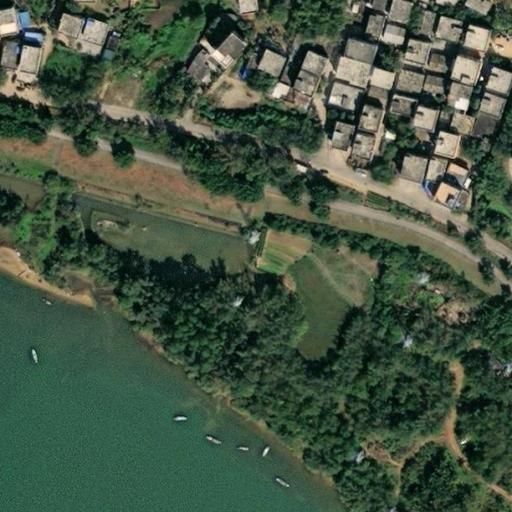building: (199, 16, 240, 58), (173, 48, 211, 88), (317, 78, 357, 112), (472, 56, 512, 90), (331, 27, 373, 55), (434, 73, 468, 107), (326, 50, 362, 82), (245, 40, 279, 73), (265, 78, 304, 105), (424, 8, 456, 40), (423, 171, 455, 203), (467, 81, 498, 114), (389, 141, 420, 174), (339, 119, 368, 153), (426, 105, 465, 130), (46, 2, 77, 33), (442, 44, 473, 75), (72, 13, 102, 45), (453, 12, 483, 44), (282, 57, 314, 87), (385, 67, 417, 97), (318, 112, 347, 145), (287, 39, 321, 67), (360, 55, 392, 84), (347, 94, 376, 126), (98, 26, 123, 60), (401, 96, 431, 124), (412, 148, 440, 178), (395, 34, 423, 61), (432, 157, 462, 182), (10, 37, 34, 68), (464, 107, 491, 134), (419, 54, 444, 79), (424, 122, 449, 147), (412, 74, 439, 97), (365, 136, 389, 160), (381, 90, 406, 113), (373, 23, 398, 45), (355, 10, 377, 33), (410, 9, 428, 37), (460, 0, 491, 14), (226, 0, 250, 15), (398, 5, 415, 26), (359, 84, 379, 101), (425, 0, 448, 10), (361, 0, 381, 11), (11, 9, 23, 27), (16, 30, 35, 41), (8, 0, 20, 5)
